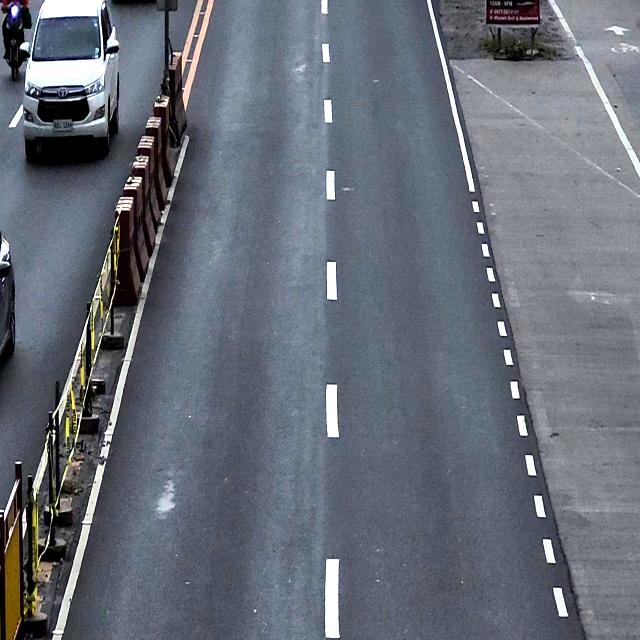Car: (19, 0, 121, 161), (0, 228, 15, 372)
License-Plate: (52, 118, 73, 134)
Motorcycle: (3, 0, 28, 82)
